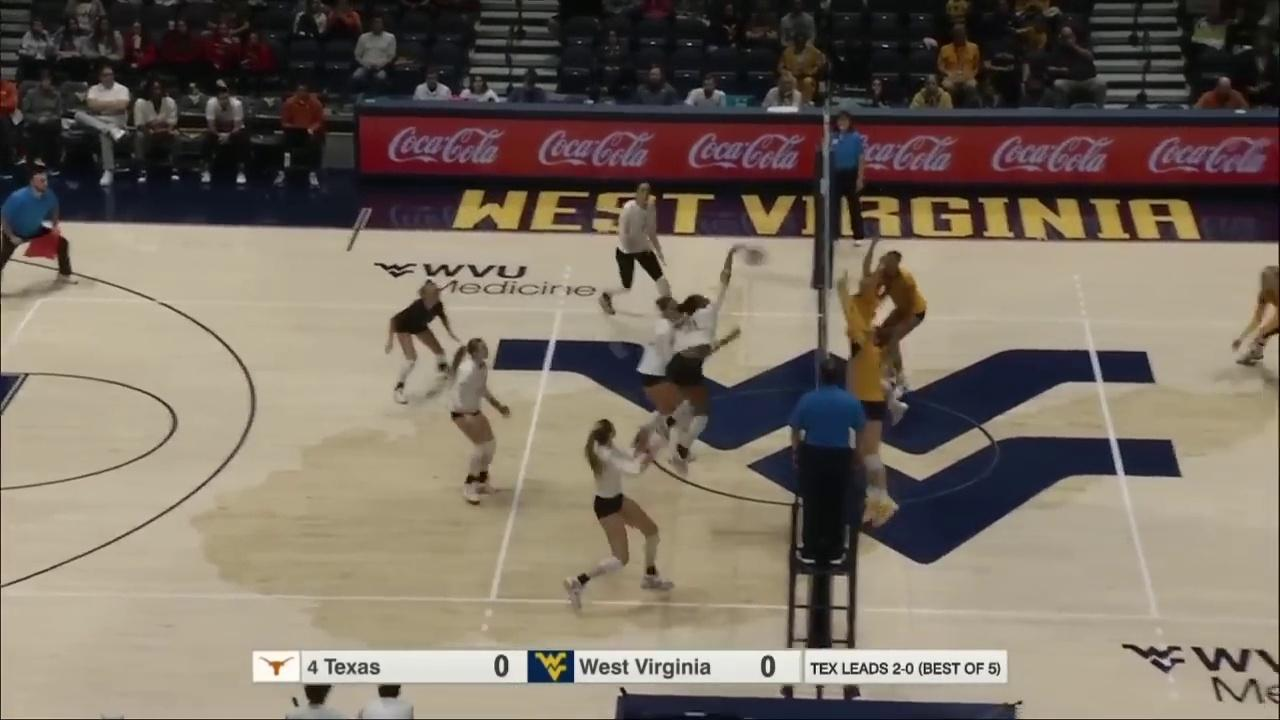player: (562, 419, 676, 606), (667, 256, 739, 471), (837, 255, 909, 424), (849, 320, 900, 528), (384, 280, 461, 409), (446, 337, 506, 502), (605, 184, 678, 317), (635, 296, 682, 464), (872, 250, 924, 401), (1237, 265, 1280, 369)
refree: (789, 357, 864, 565), (0, 169, 84, 291), (820, 111, 874, 249)
